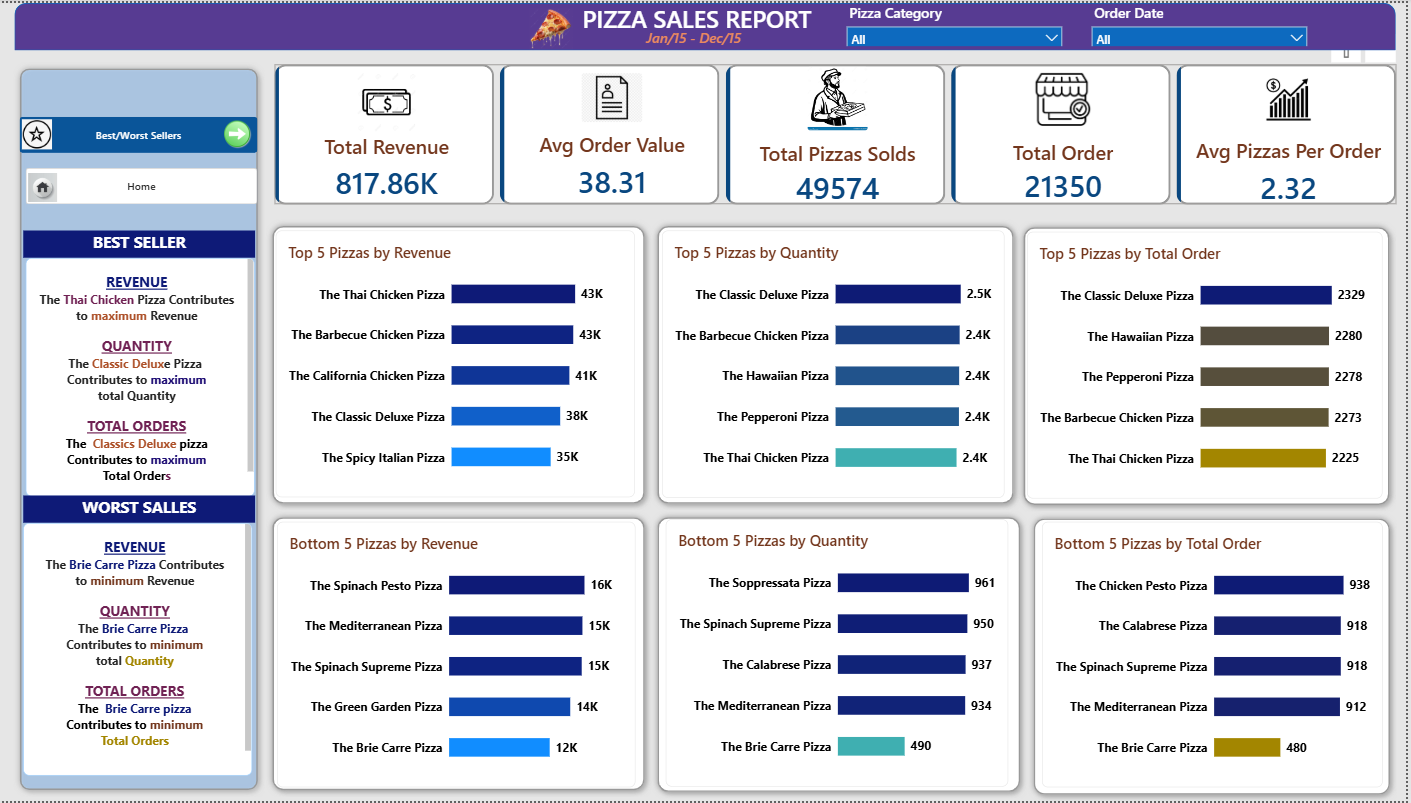

Layout of this report page (visuals, bound fields, positions):
{"tool":"powerbi","page":{"name":"Best/Worst Sellers ","canvas":[1920,1080],"ordinal":1},"visuals":[{"type":"shape","box":[35.5,79.5,339.8,994.1],"z":0},{"type":"cardVisual","fields":{"Data":["pizza_sales.Total Revenue","pizza_sales.Avg Order Value","pizza_sales.Total Pizzas Solds","pizza_sales.Total Order","pizza_sales.Avg Pizzas Per Order"]},"box":[389.5,82.2,1517.1,190.4],"z":1000},{"type":"shape","box":[37.2,0,1868.2,64.2],"z":2000},{"type":"textbox","box":[779.1,0,361.4,49.8],"z":3000},{"type":"textbox","box":[876.5,34.6,160.1,30.3],"z":4000},{"type":"image","box":[718.5,6.5,88.7,58.4],"z":5000},{"type":"shape","box":[376.6,292.2,521.6,393.9],"z":6000},{"type":"textbox","box":[49.8,307.3,313.8,36.8],"z":16000},{"type":"textbox","box":[51.9,344.1,309.5,322.5],"z":17000},{"type":"textbox","box":[49.8,666.6,313.8,36.8],"z":18000},{"type":"textbox","box":[49.8,703.3,309.5,341.9],"z":19000},{"type":"slicer","fields":{"Values":["pizza_sales.pizza_category"]},"box":[1157.8,0,300.8,58.4],"z":20000},{"type":"slicer","fields":{"Values":["pizza_sales.order_date"]},"box":[1488.9,0,300.8,58.4],"z":21000},{"type":"shape","box":[898.1,292.2,499.9,393.9],"z":21001},{"type":"shape","box":[1393.7,294.3,512.9,393.9],"z":21002},{"type":"shape","box":[376.6,686,521.6,387.4],"z":21003},{"type":"shape","box":[898.1,686,508.6,389.5],"z":21004},{"type":"shape","box":[1406.7,688.2,499.9,391.7],"z":21005},{"type":"barChart","title":"Top 5 Pizzas by Revenue","fields":{"Category":["pizza_sales.pizza_name"],"Y":["pizza_sales.Total Revenue"]},"box":[389.8,307,485.9,360.4],"z":21006},{"type":"barChart","title":"Bottom 5 Pizzas by Revenue","fields":{"Category":["pizza_sales.pizza_name"],"Y":["pizza_sales.Total Revenue"]},"box":[391.7,701.2,484.8,359.2],"z":21007},{"type":"barChart","title":"Top 5 Pizzas by Quantity","fields":{"Category":["pizza_sales.pizza_name"],"Y":["pizza_sales.Total Pizzas Solds"]},"box":[913.3,307.3,463.1,361.4],"z":21008},{"type":"barChart","title":"Bottom 5 Pizzas by Quantity","fields":{"Category":["pizza_sales.pizza_name"],"Y":["pizza_sales.Total Pizzas Solds"]},"box":[917.6,699,463.1,361.4],"z":21009},{"type":"barChart","title":"Top 5 Pizzas by Total Order","fields":{"Category":["pizza_sales.pizza_name"],"Y":["pizza_sales.Total Order"]},"box":[1406.9,309.7,480.5,360.4],"z":21010},{"type":"barChart","title":"Bottom 5 Pizzas by Total Order","fields":{"Category":["pizza_sales.pizza_name"],"Y":["pizza_sales.Total Order"]},"box":[1426.2,701.2,461,359.2],"z":21011},{"type":"pageNavigator","box":[43.3,153.7,322.5,49.8],"z":21012},{"type":"pageNavigator","box":[51.9,222.9,313.8,49.8],"z":21013},{"type":"image","box":[318.1,151.5,41.1,49.8],"z":21014},{"type":"image","box":[51.9,229.4,45.4,39],"z":21015},{"type":"image","box":[43.3,158,47.6,41.1],"z":21016}]}

Visuals, with their boxes in screenshot pixels (x1, y1, x2, y2), scaled from the page's 1920x1080 canvas onto the 1411x803 screenshot:
shape: detection(26, 59, 276, 798)
cardVisual - pizza_sales.Total Revenue x pizza_sales.Avg Order Value: detection(286, 61, 1401, 203)
shape: detection(27, 0, 1400, 48)
textbox: detection(573, 0, 838, 37)
textbox: detection(644, 26, 762, 48)
image: detection(528, 5, 593, 48)
shape: detection(277, 217, 660, 510)
textbox: detection(37, 228, 267, 256)
textbox: detection(38, 256, 266, 496)
textbox: detection(37, 496, 267, 523)
textbox: detection(37, 523, 264, 777)
slicer - pizza_sales.pizza_category: detection(851, 0, 1072, 43)
slicer - pizza_sales.order_date: detection(1094, 0, 1315, 43)
shape: detection(660, 217, 1027, 510)
shape: detection(1024, 219, 1401, 512)
shape: detection(277, 510, 660, 798)
shape: detection(660, 510, 1034, 800)
shape: detection(1034, 512, 1401, 802)
"Top 5 Pizzas by Revenue" barChart: detection(286, 228, 644, 496)
"Bottom 5 Pizzas by Revenue" barChart: detection(288, 521, 644, 788)
"Top 5 Pizzas by Quantity" barChart: detection(671, 228, 1012, 497)
"Bottom 5 Pizzas by Quantity" barChart: detection(674, 520, 1015, 788)
"Top 5 Pizzas by Total Order" barChart: detection(1034, 230, 1387, 498)
"Bottom 5 Pizzas by Total Order" barChart: detection(1048, 521, 1387, 788)
pageNavigator: detection(32, 114, 269, 151)
pageNavigator: detection(38, 166, 269, 203)
image: detection(234, 113, 264, 150)
image: detection(38, 171, 72, 200)
image: detection(32, 117, 67, 148)
